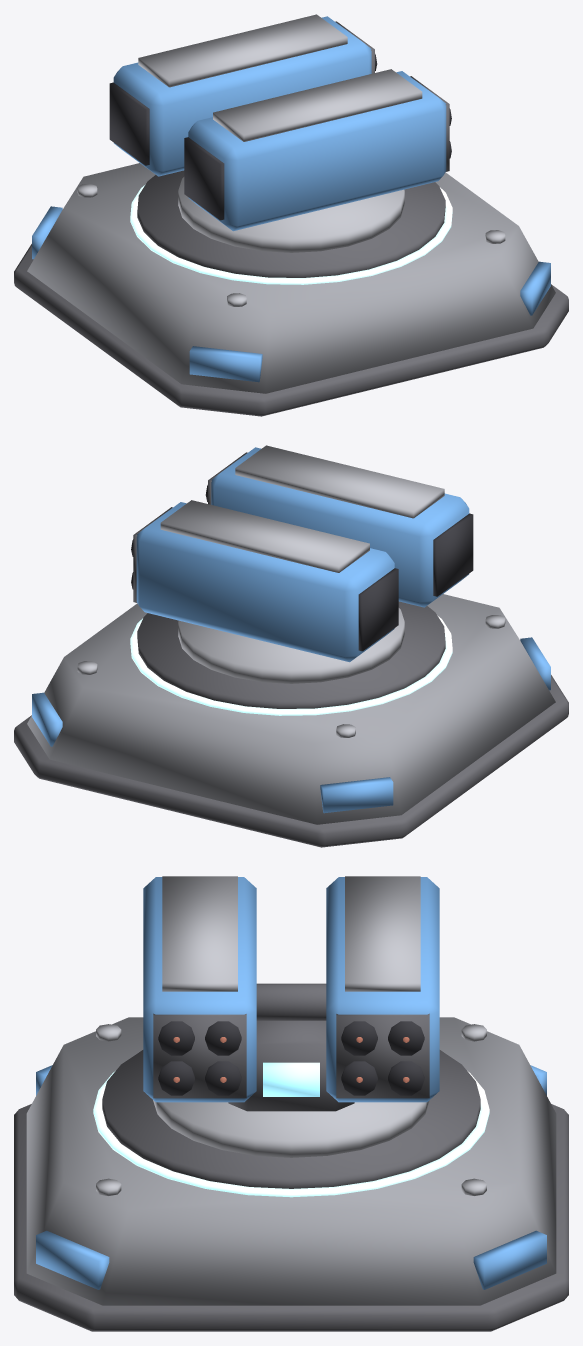
Rendered from rocket_turret.glb.
3 views of the same model, one above another, from view 1: azimuth 30°, elevation 25°; view 2: azimuth 150°, elevation 25°; view 3: azimuth 270°, elevation 25° (orthographic). The views are drawn at different scales.
Parts seen in each view (by area): view 1: body, turret; view 2: body, turret; view 3: body, turret.
Part boxes in pixels (x1=…): body: x1=14, y1=163, x2=568, y2=416; turret: x1=109, y1=14, x2=451, y2=252; body: x1=14, y1=594, x2=568, y2=847; turret: x1=131, y1=445, x2=473, y2=683; body: x1=14, y1=1017, x2=568, y2=1331; turret: x1=143, y1=876, x2=439, y2=1157.
Size of the model in its own units: 0.88 by 0.49 by 0.88.
